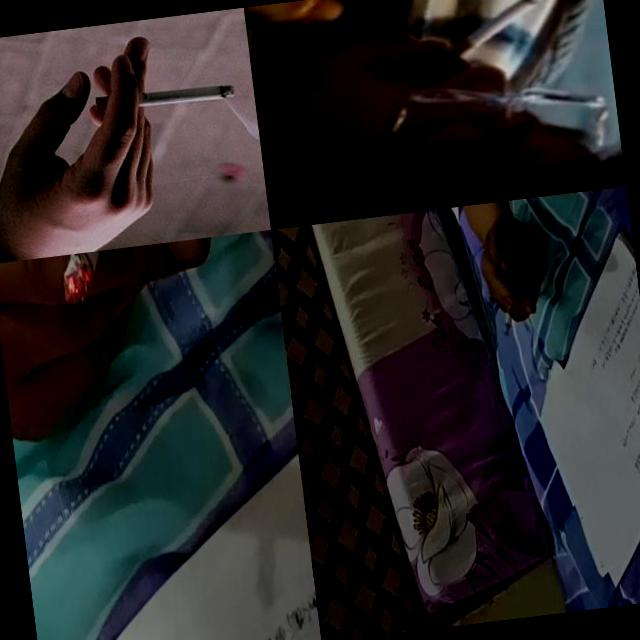smoke: (427, 0, 563, 67), (94, 79, 236, 114), (59, 246, 139, 308), (497, 280, 524, 335)
